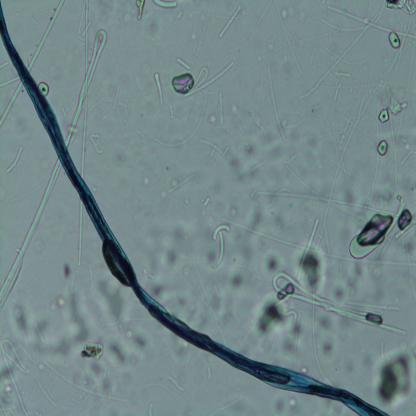Air bubble: (172, 74, 195, 94)
Background material: (13, 288, 92, 358), (68, 360, 124, 410), (375, 341, 416, 408), (226, 221, 264, 291), (96, 274, 128, 334), (173, 286, 208, 335), (228, 144, 265, 184), (256, 294, 288, 338), (265, 141, 302, 177), (162, 222, 188, 270), (332, 264, 363, 302), (268, 391, 302, 412), (384, 0, 416, 19), (205, 289, 230, 312), (109, 340, 132, 364), (247, 108, 266, 137), (149, 276, 170, 302), (388, 95, 410, 119), (264, 249, 282, 278), (82, 340, 103, 362), (229, 100, 245, 127), (129, 328, 148, 350), (112, 144, 128, 168), (318, 334, 334, 358), (246, 206, 266, 225), (182, 26, 203, 44), (131, 1, 147, 22), (386, 29, 401, 50), (280, 3, 296, 22), (61, 258, 74, 280), (224, 205, 239, 222), (377, 106, 391, 124), (264, 39, 276, 56), (147, 20, 159, 36), (377, 140, 388, 156), (141, 172, 151, 186), (148, 401, 154, 416)
Cotton: (14, 0, 406, 338)
Glass filter fibre: (315, 86, 380, 250), (0, 159, 61, 308), (272, 271, 408, 334), (300, 11, 379, 99), (66, 30, 108, 149), (347, 201, 406, 260), (326, 5, 416, 40), (154, 91, 208, 149), (27, 1, 64, 72), (258, 187, 350, 210), (306, 292, 328, 384), (81, 0, 90, 179), (266, 64, 286, 144), (3, 354, 28, 413), (190, 61, 233, 95), (297, 217, 320, 280), (1, 340, 32, 377), (0, 81, 23, 129), (218, 5, 242, 41), (165, 170, 194, 198), (37, 376, 57, 408), (258, 1, 274, 29), (190, 66, 208, 90), (200, 139, 223, 157), (214, 232, 225, 269), (7, 146, 22, 172), (78, 200, 83, 269), (154, 70, 164, 104), (212, 223, 230, 240), (112, 81, 122, 111), (168, 374, 183, 394), (340, 117, 350, 146), (401, 147, 416, 164), (153, 0, 178, 10), (0, 76, 20, 88), (217, 92, 224, 125), (38, 81, 50, 99), (333, 68, 351, 80), (176, 57, 191, 70), (334, 80, 341, 103), (205, 365, 213, 383), (0, 60, 9, 70), (204, 198, 210, 208)
